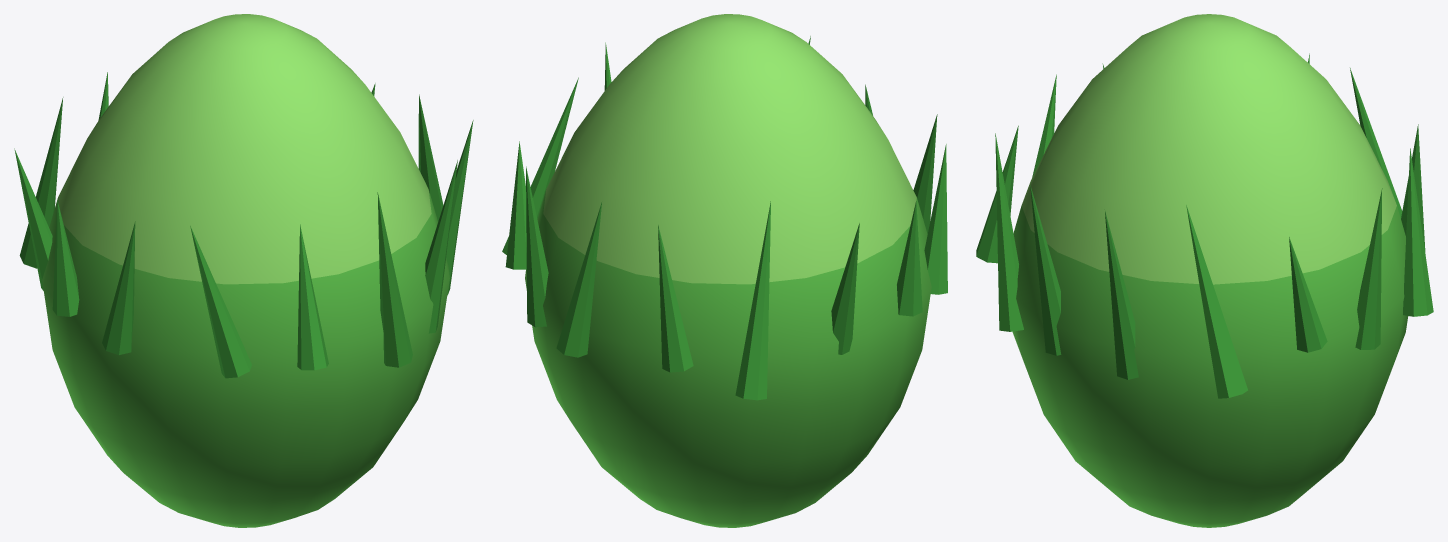
File: Grass.glb
The picture shows the model from 3 angles, left to right: view 1: azimuth 30°, elevation 25°; view 2: azimuth 150°, elevation 25°; view 3: azimuth 270°, elevation 25°; orthographic projection.
Visible parts, largest first — view 1: Grass; view 2: Grass; view 3: Grass.
Part boxes in pixels (bbox=[...]): Grass: bbox=[14, 14, 473, 527]; Grass: bbox=[502, 14, 947, 527]; Grass: bbox=[976, 14, 1433, 527].
Size of the model in its own units: 3.45 by 4 by 3.37.
Materials: 1 (1 with a texture image).
